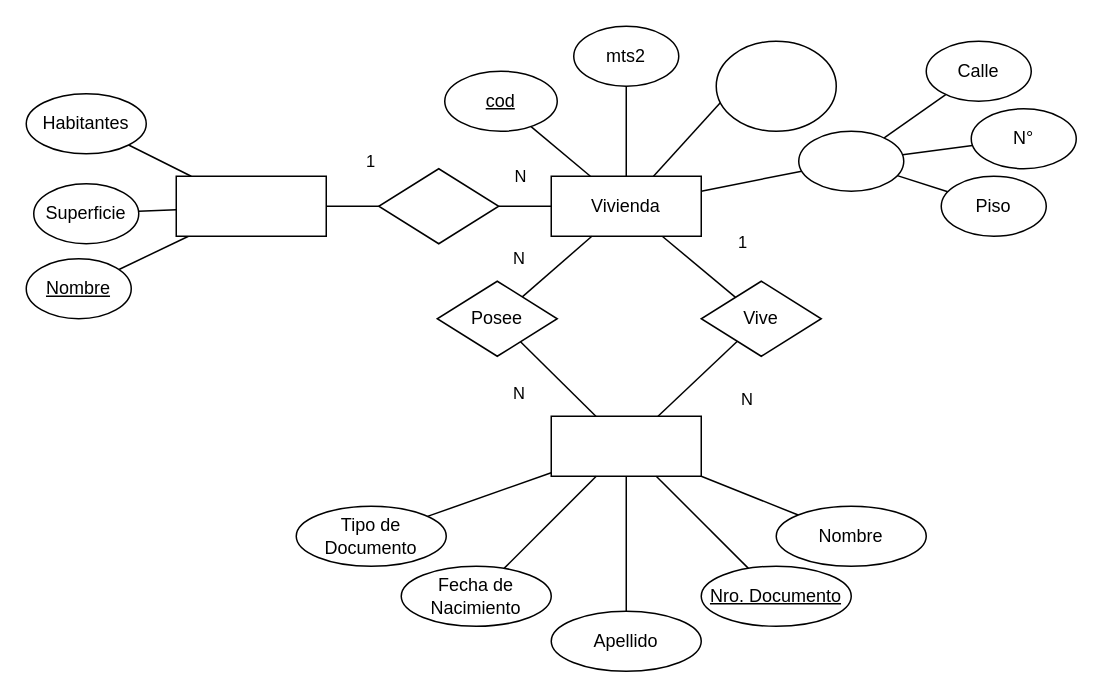
Image size: 1103x698. Some labels were removed from this diagram. The shapes that lost their labels are listed below. From the top down, each one's centre as x and y in pixels, then its label:
At [775,85]: "mts2 edificados".
At [850,160]: "direccion".
At [250,205]: "Municipio".
At [438,205]: "Queda en".
At [625,445]: "Personas".
